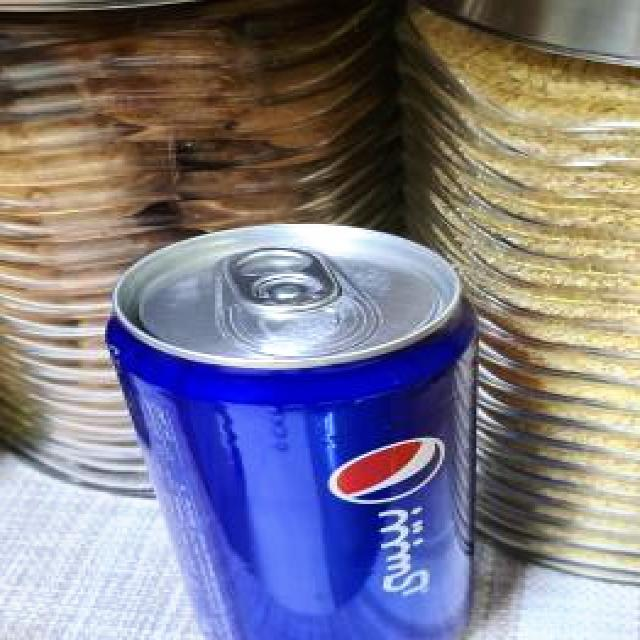Lata: (106, 225, 476, 640)
